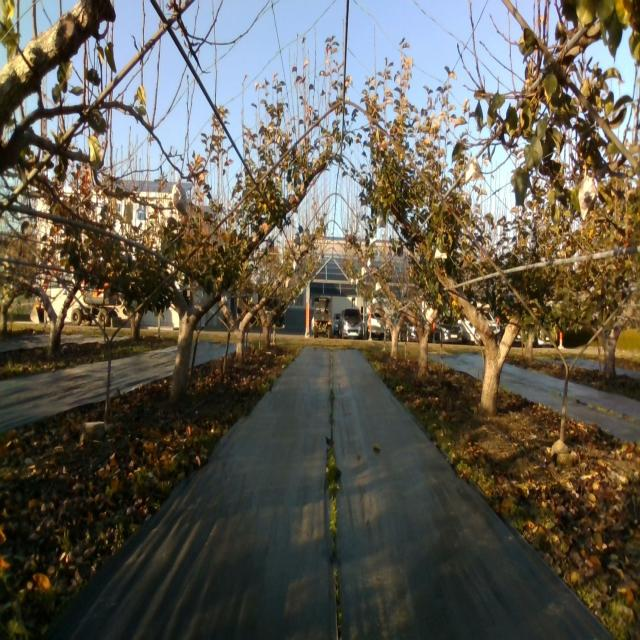pearbags: (578, 169, 598, 222), (171, 176, 188, 216), (465, 156, 484, 182)
